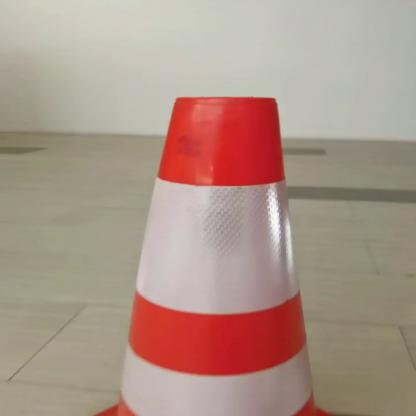cone: (97, 89, 343, 416)
